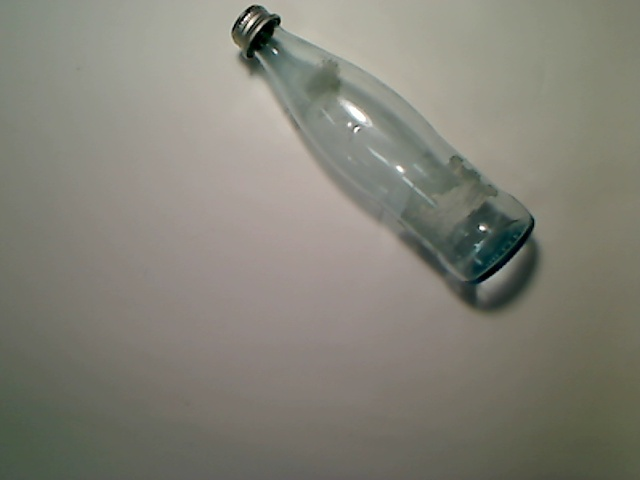bottle: (230, 4, 536, 284)
